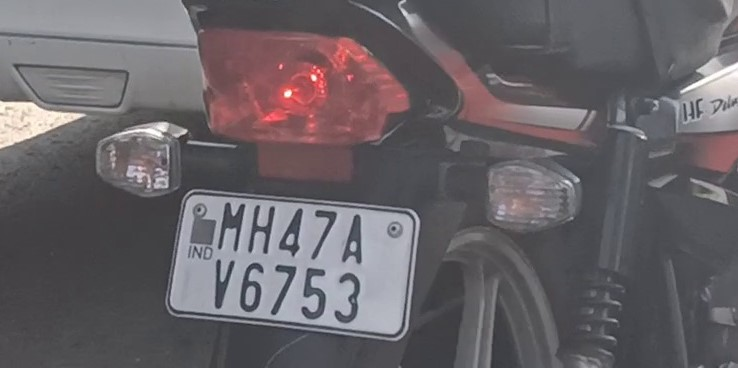MH47AV6753: (168, 192, 416, 338)
